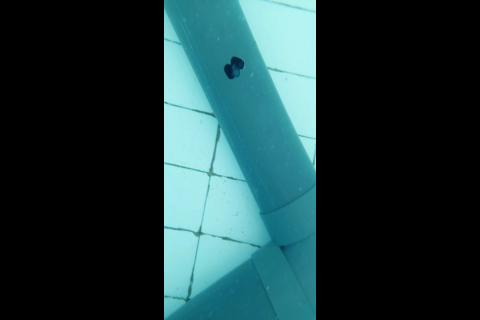kebocoran: (223, 55, 245, 79)
